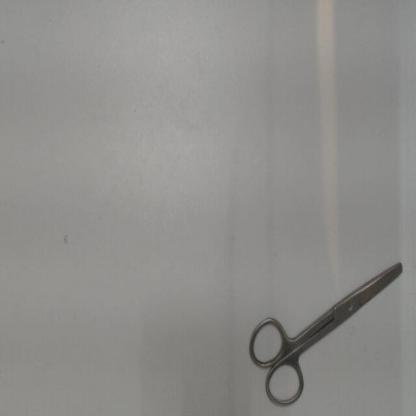Dressing Scissors: (242, 248, 411, 411)
